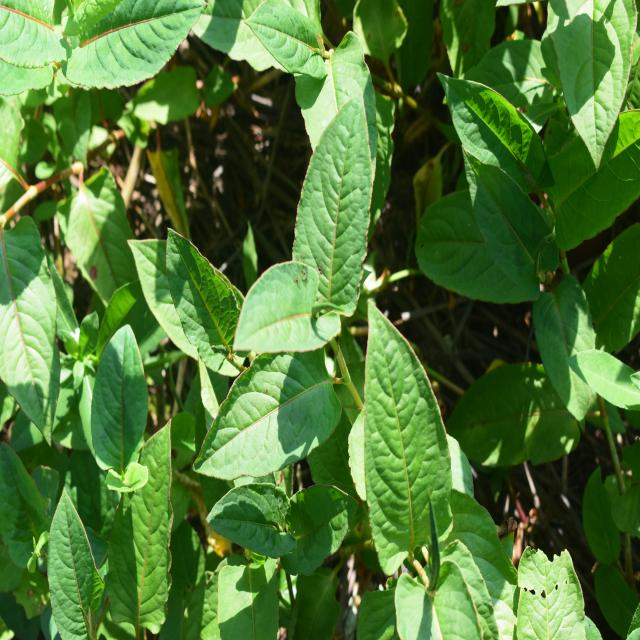Chinese_knotweed: (159, 135, 428, 496), (4, 328, 183, 630)
